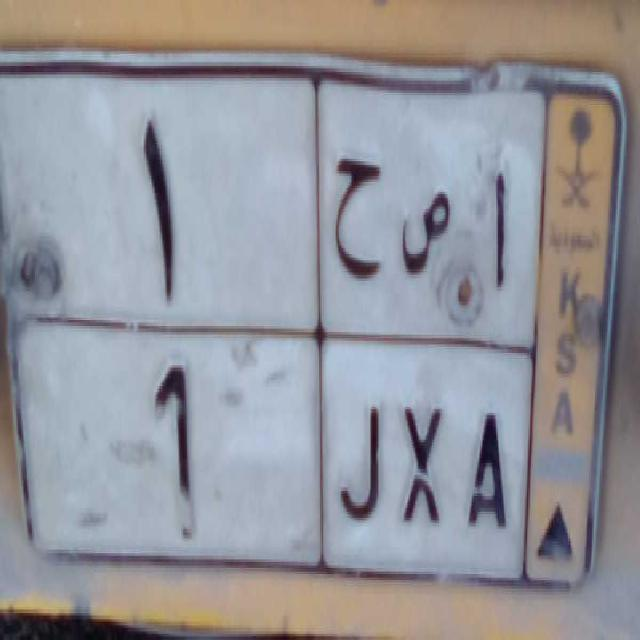license_plate: (2, 320, 530, 580)
